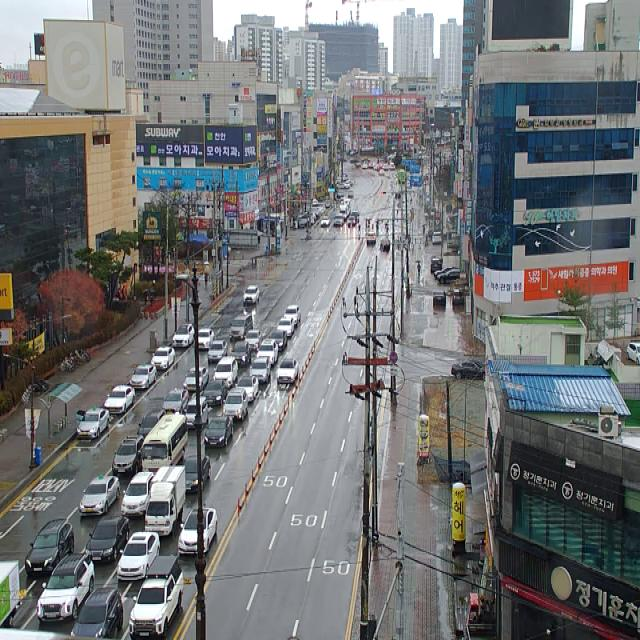Bus: (138, 414, 188, 472)
Car: (129, 556, 183, 639), (36, 554, 94, 622), (25, 518, 75, 576), (71, 587, 123, 639), (84, 516, 130, 564), (117, 532, 160, 582), (178, 508, 218, 556), (79, 474, 120, 516), (121, 472, 154, 516), (112, 435, 144, 477), (76, 406, 109, 439), (186, 455, 212, 493), (104, 386, 135, 415), (204, 416, 233, 447), (222, 388, 248, 420), (137, 409, 166, 437), (213, 356, 238, 387), (184, 397, 208, 428), (130, 363, 157, 390), (162, 388, 189, 414), (183, 367, 209, 392), (203, 379, 227, 405), (235, 377, 259, 402), (451, 362, 485, 379), (229, 316, 253, 340), (257, 338, 278, 365), (151, 346, 175, 369), (250, 357, 271, 383), (277, 359, 299, 383), (230, 341, 251, 364), (173, 324, 194, 347), (208, 340, 228, 363), (269, 330, 287, 351), (244, 330, 262, 350), (437, 269, 460, 284), (284, 306, 301, 326), (243, 285, 259, 306), (277, 318, 294, 337), (198, 329, 214, 349), (627, 343, 640, 364), (434, 267, 456, 279), (433, 289, 446, 306), (453, 290, 464, 306), (431, 259, 442, 273), (333, 214, 344, 226), (432, 232, 442, 245), (380, 238, 390, 250), (367, 232, 376, 244), (347, 215, 356, 227), (321, 216, 330, 227)
Truck: (145, 465, 185, 536), (0, 540, 26, 640)
